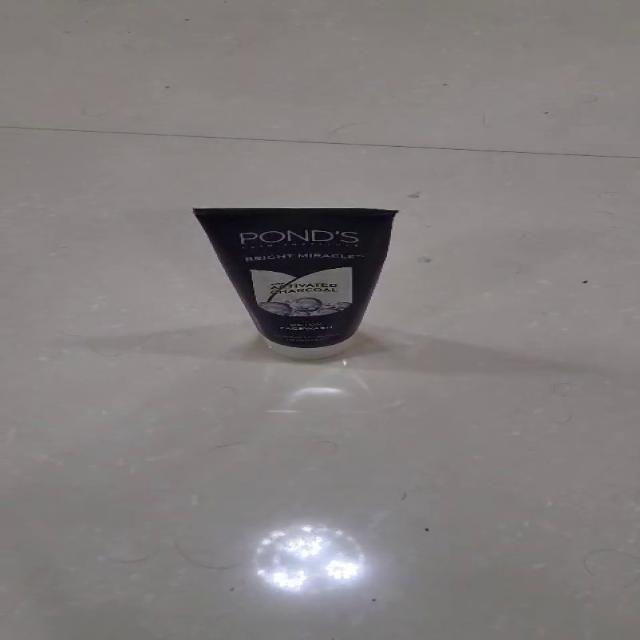plastic: (190, 205, 399, 360)
